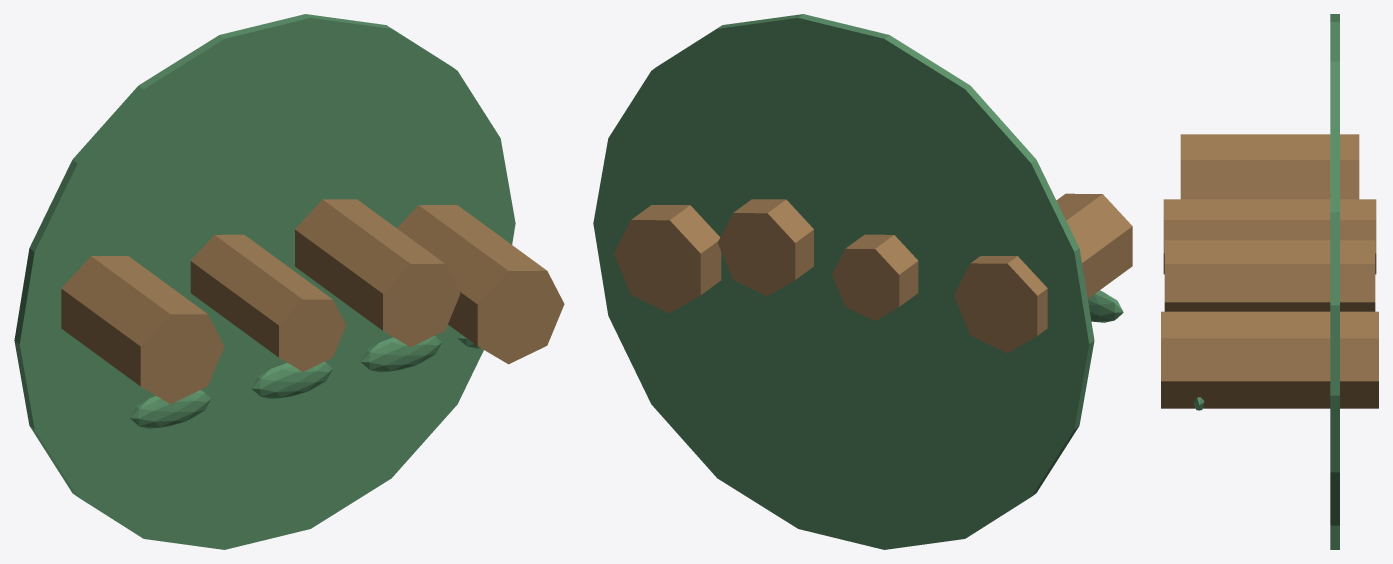
Rendered from 03_ambient_object_cluster.glb.
The picture shows the model from 3 angles, left to right: view 1: azimuth 30°, elevation 25°; view 2: azimuth 150°, elevation 25°; view 3: azimuth 270°, elevation 25°; orthographic projection. The views are drawn at different scales.
Parts seen in each view (by area): view 1: scatter_base, root_stump_0, root_stump_2, root_stump_3, root_stump_1, moss_1, moss_2, moss_0; view 2: scatter_base, root_stump_0, root_stump_3, root_stump_2, root_stump_1, moss_0; view 3: root_stump_3, root_stump_2, root_stump_0, root_stump_1, scatter_base.
Boxes of the visible parts, <box> form: scatter_base: <box>14,14,515,549</box>; root_stump_0: <box>61,256,224,404</box>; root_stump_2: <box>295,199,460,347</box>; root_stump_3: <box>397,205,564,364</box>; root_stump_1: <box>190,234,346,371</box>; moss_1: <box>251,361,332,398</box>; moss_2: <box>361,336,441,372</box>; moss_0: <box>130,390,210,428</box>; scatter_base: <box>593,14,1094,549</box>; root_stump_0: <box>954,193,1132,353</box>; root_stump_3: <box>613,205,721,313</box>; root_stump_2: <box>717,199,813,296</box>; root_stump_1: <box>832,234,918,320</box>; moss_0: <box>1088,290,1123,322</box>; root_stump_3: <box>1161,311,1378,408</box>; root_stump_2: <box>1164,240,1375,311</box>; root_stump_0: <box>1180,134,1359,199</box>; root_stump_1: <box>1163,199,1376,274</box>; scatter_base: <box>1330,14,1339,549</box>.
Size of the model in its own units: 1.9 by 1.87 by 0.7696.
